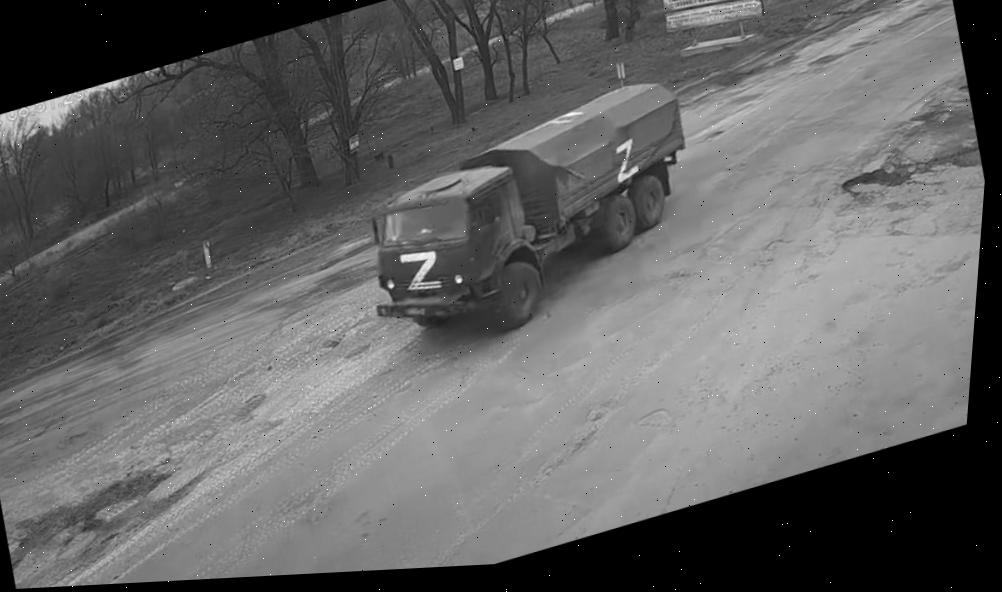tank: (908, 0, 955, 8)
truck: (333, 64, 735, 372)
